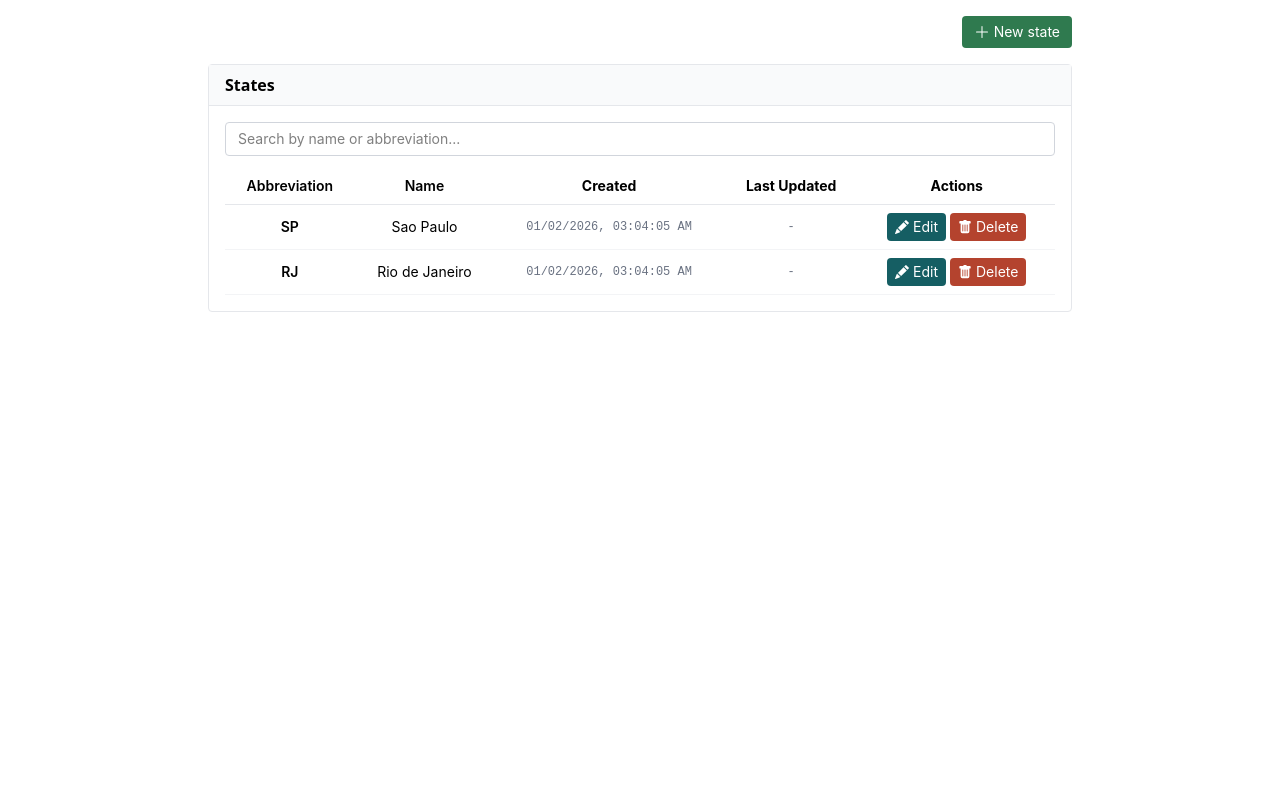
Scenario: StateListView › shows an error when deleting fails
Step 1. Click the button with aria-label "Delete SP" → (988, 227), box [950, 213, 1026, 241]
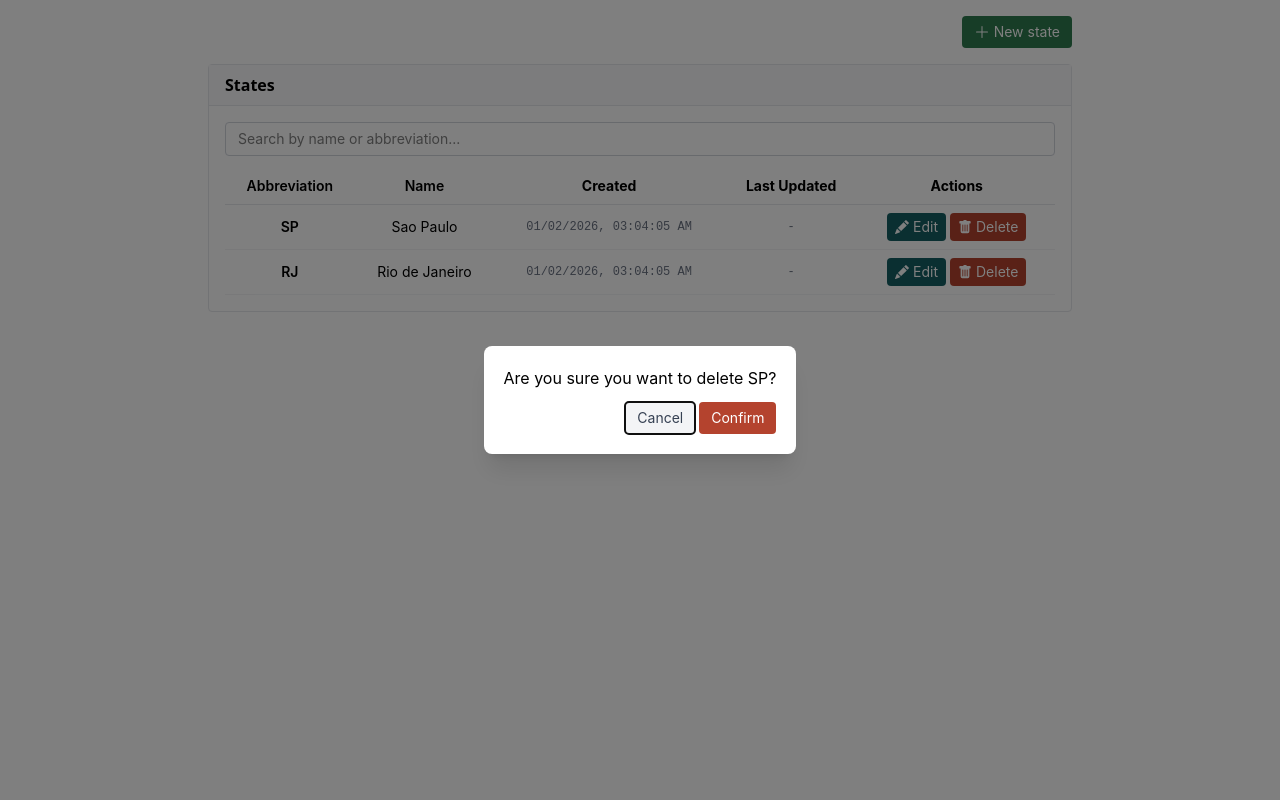
Step 2. Click the button "Confirm" → (738, 418), box [699, 402, 776, 434]
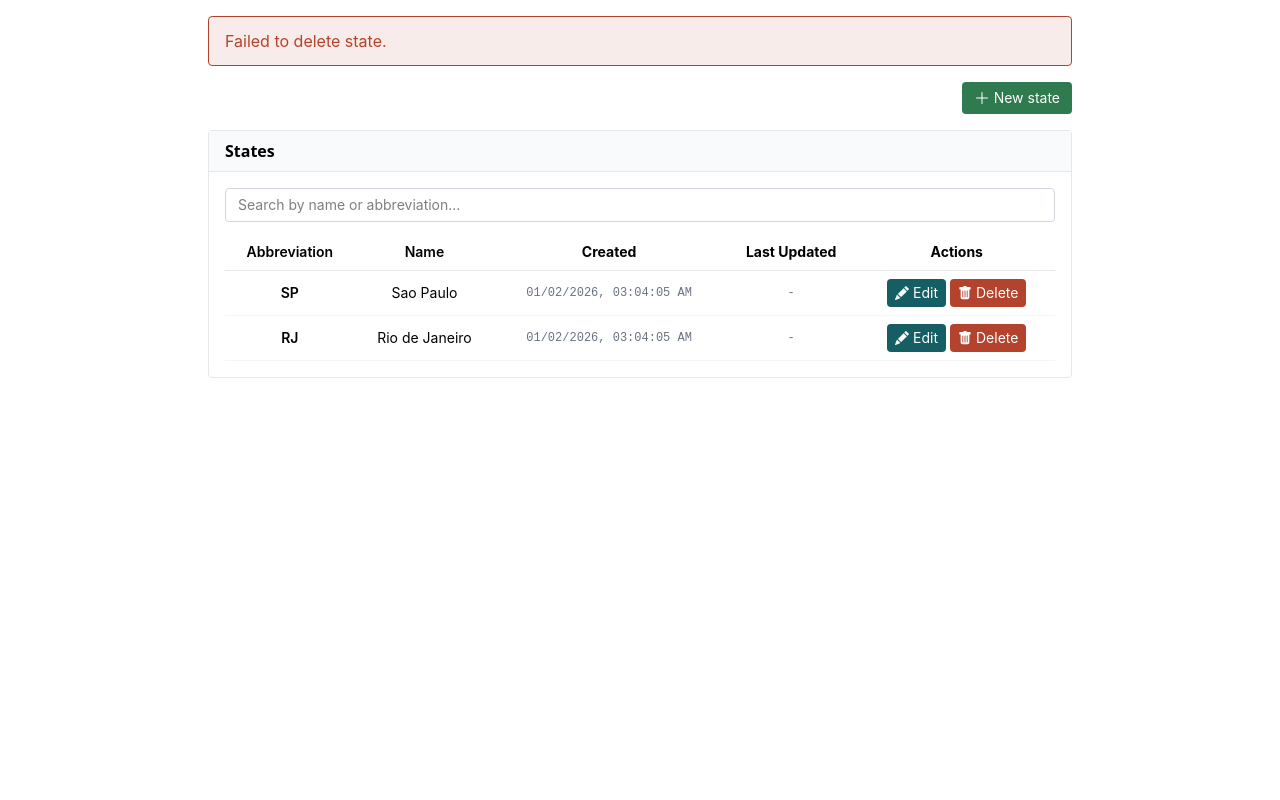
Check: the message reads "Failed to delete state.", box [225, 31, 387, 51]
